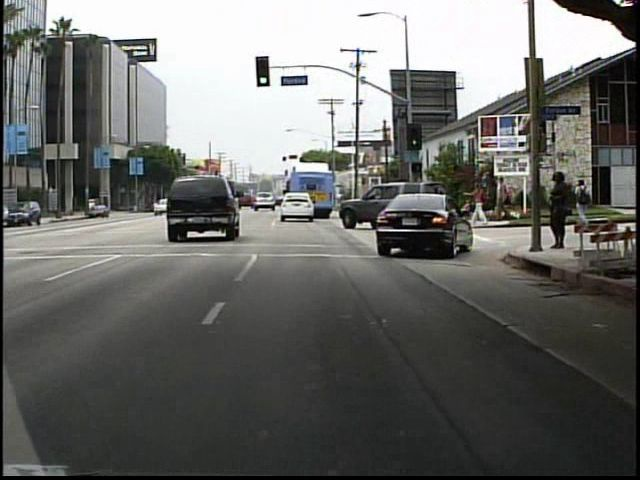person: (543, 168, 569, 255), (466, 178, 492, 228), (573, 175, 593, 226), (494, 176, 512, 222)
